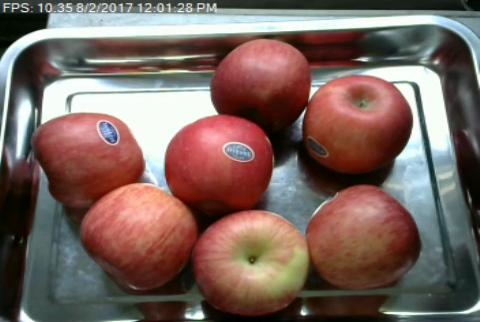apple: (80, 184, 198, 292), (307, 181, 422, 288), (195, 210, 308, 316), (32, 113, 146, 209), (302, 76, 413, 173), (164, 116, 274, 213), (210, 40, 310, 133)
